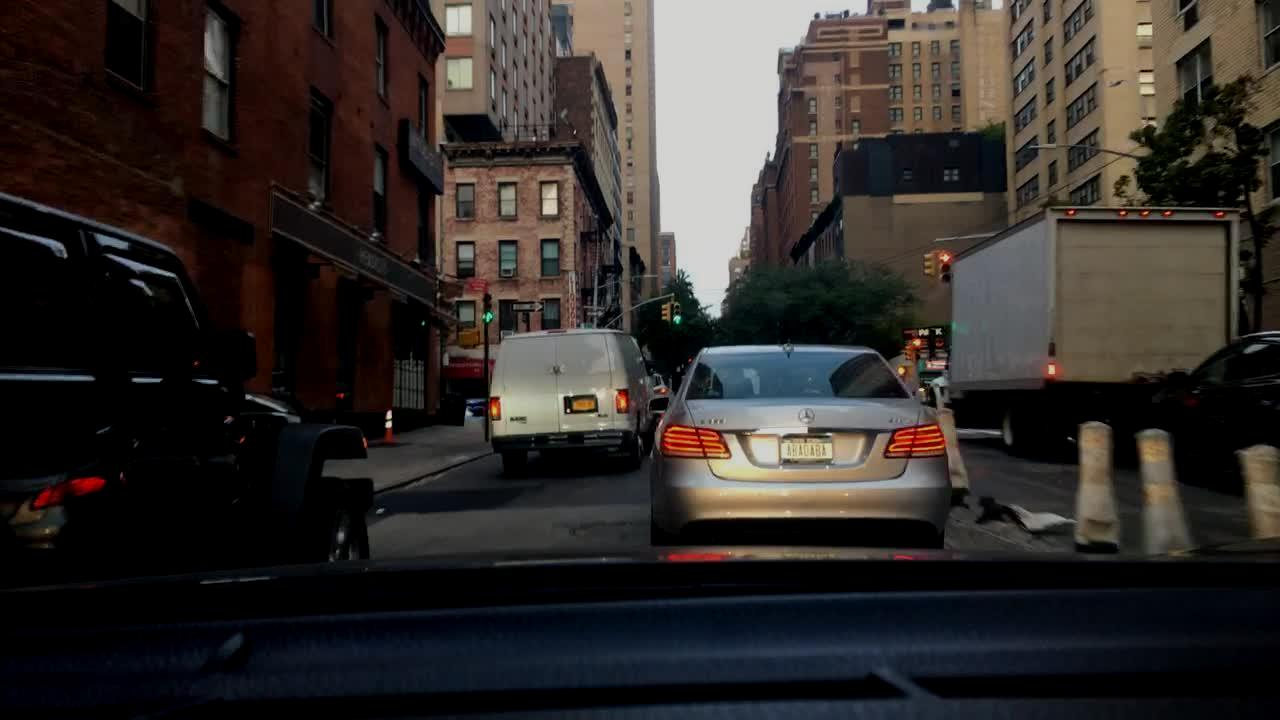Mercedes: (792, 405, 822, 429)
